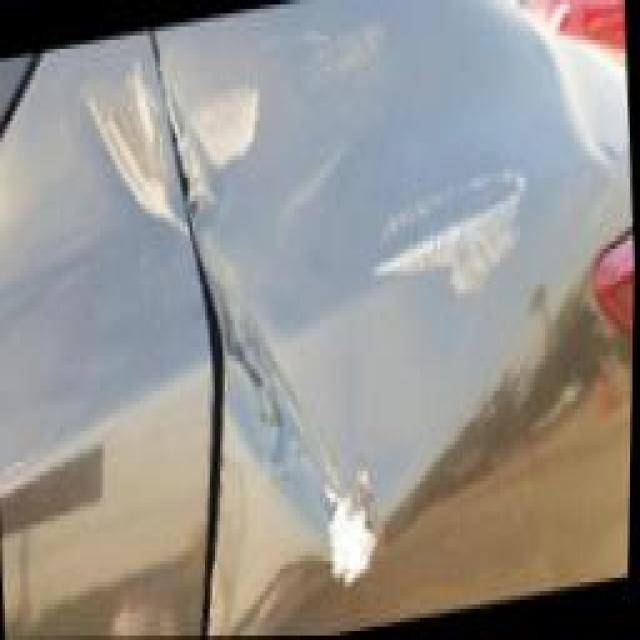Door: (92, 27, 182, 290)
Fender: (152, 0, 633, 638)
